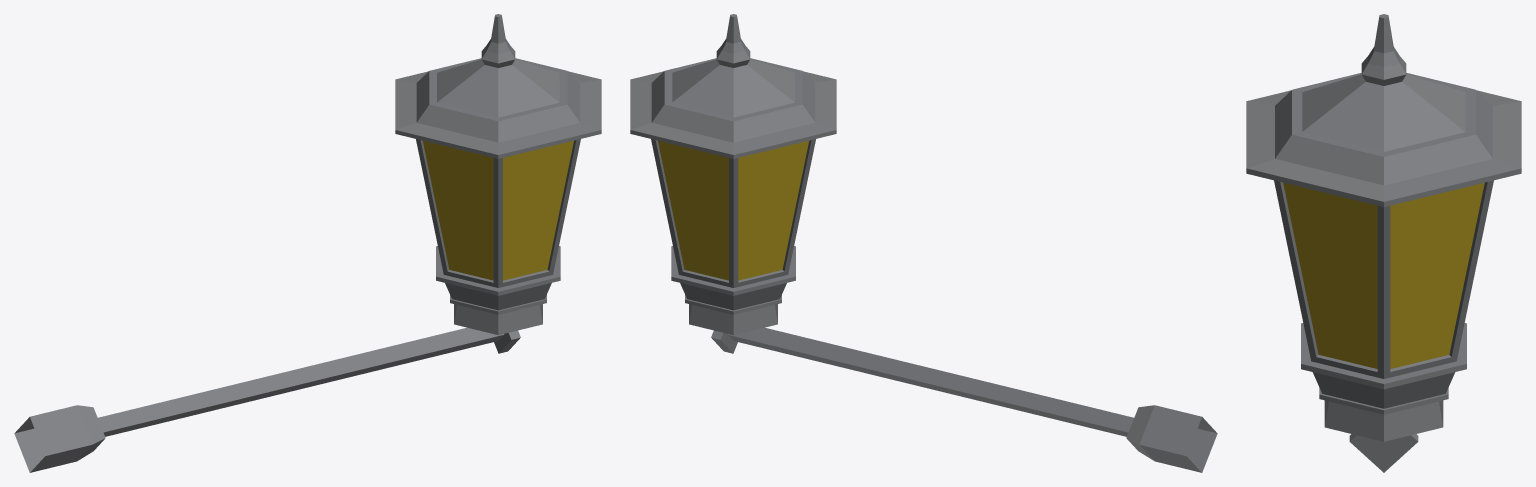
Rendered from SM_streetlamp_wall.fbx.
3 views of the same model, side by side, from view 1: azimuth 30°, elevation 25°; view 2: azimuth 150°, elevation 25°; view 3: azimuth 270°, elevation 25° (orthographic). The views are drawn at different scales.
Parts seen in each view (by area): view 1: Line068; view 2: Line068; view 3: Line068.
Boxes of the visible parts, left/top/right/bottom form: Line068: left=14, top=14, right=601, bottom=472; Line068: left=630, top=14, right=1217, bottom=472; Line068: left=1246, top=14, right=1521, bottom=472.
Bounding box in the file's own units: 49 × 15.33 × 28.09.
